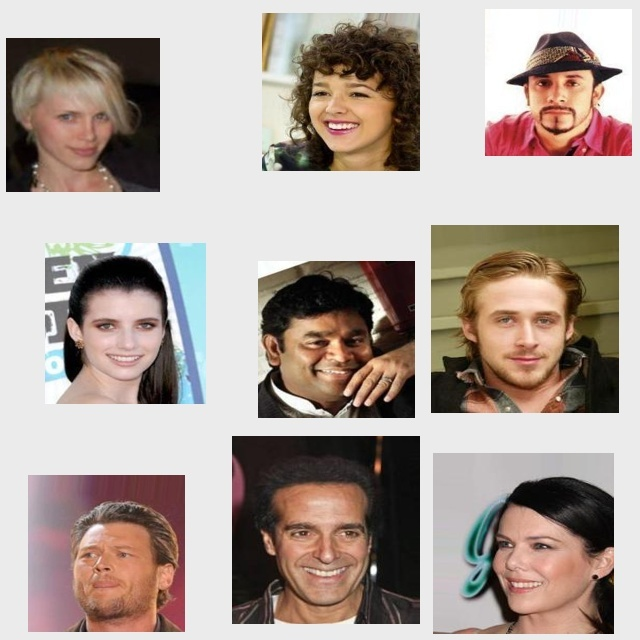celeb_1212: (28, 475, 185, 632)
celeb_2336: (232, 436, 420, 624)
celeb_2970: (45, 243, 206, 404)
celeb_3: (485, 9, 632, 156)
celeb_5695: (433, 453, 614, 634)
celeb_7: (258, 261, 415, 418)
celeb_7007: (262, 13, 420, 171)
celeb_797: (6, 38, 160, 192)
celeb_8335: (431, 225, 619, 413)
